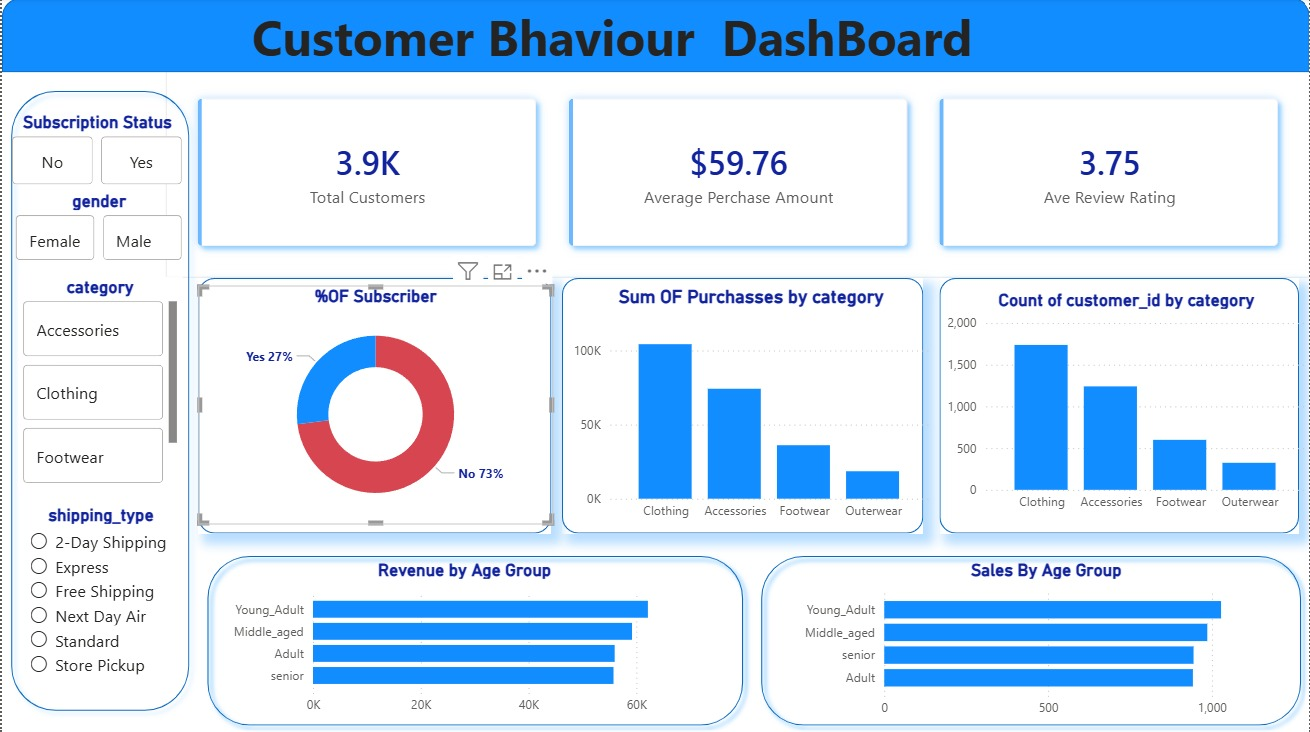

The page's visual inventory and layout, read from the dashboard file:
{"tool":"powerbi","page":{"name":"Page 1","canvas":[1280,720],"ordinal":0},"visuals":[{"type":"cardVisual","fields":{"Data":["public customer.Total Customers","public customer.Average Perchase Amount","public customer.Ave Review  Rating"]},"box":[160,66.7,1120,206.7],"z":0},{"type":"shape","box":[0,0,1280.3,72.7],"z":1000},{"type":"shape","box":[916.7,273.3,351.7,250],"z":2000},{"type":"textbox","box":[0,0,1193.8,82.3],"z":3000},{"type":"shape","box":[191.7,273.3,345,250],"z":4000},{"type":"shape","box":[548.3,273.3,353.3,250],"z":5000},{"type":"donutChart","title":"%OF Subscriber","fields":{"Category":["public customer.subscription_status"],"Y":["CountNonNull(public customer.customer_id)"]},"box":[192.1,281.3,347.2,233.3],"z":6000},{"type":"clusteredColumnChart","fields":{"Y":["public customer.Sum OF Purchasses"],"Category":["public customer.category"]},"box":[554.4,281.3,358.1,238.8],"z":7000},{"type":"clusteredColumnChart","fields":{"Y":["CountNonNull(public customer.customer_id)"],"Category":["public customer.category"]},"box":[919.4,285.4,360.9,226.4],"z":8000},{"type":"shape","box":[0,82.3,192.1,624.4],"z":9000},{"type":"advancedSlicerVisual","fields":{"Values":["public customer.subscription_status"]},"box":[5.5,111.1,177,76.8],"z":10000},{"type":"advancedSlicerVisual","fields":{"Values":["public customer.gender"]},"box":[8.2,188,172.9,74.1],"z":11000},{"type":"advancedSlicerVisual","fields":{"Values":["public customer.category"]},"box":[16.5,273.1,160.5,208.6],"z":12000},{"type":"listSlicer","fields":{"Values":["public customer.shipping_type"]},"box":[22,495.4,149.6,225],"z":13000},{"type":"clusteredBarChart","title":"Revenue by Age Group","fields":{"Category":["public customer.age_group"],"Y":["Sum(public customer.purchase_amount)"]},"box":[216.8,548.9,472,160.5],"z":14000},{"type":"shape","box":[192.1,536.5,542,183.9],"z":15000},{"type":"shape","box":[734.1,536.5,546.1,183.9],"z":16000},{"type":"clusteredBarChart","title":"Sales By Age Group","fields":{"Category":["public customer.age_group"],"Y":["CountNonNull(public customer.customer_id)"]},"box":[775.3,548.9,492.6,163.3],"z":17000}]}

Visuals, with their boxes in screenshot pixels (x1, y1, x2, y2), scaled from the page's 1280x720 canvas onto the 1310x732 screenshot:
cardVisual - public customer.Total Customers x public customer.Average Perchase Amount: x1=164, y1=68, x2=1309, y2=278
shape: x1=0, y1=0, x2=1309, y2=74
shape: x1=938, y1=278, x2=1298, y2=532
textbox: x1=0, y1=0, x2=1222, y2=84
shape: x1=196, y1=278, x2=549, y2=532
shape: x1=561, y1=278, x2=923, y2=532
"%OF Subscriber" donutChart: x1=197, y1=286, x2=552, y2=523
clusteredColumnChart - public customer.Sum OF Purchasses x public customer.category: x1=567, y1=286, x2=934, y2=529
clusteredColumnChart - CountNonNull(public customer.customer_id) x public customer.category: x1=941, y1=290, x2=1309, y2=520
shape: x1=0, y1=84, x2=197, y2=718
advancedSlicerVisual - public customer.subscription_status: x1=6, y1=113, x2=187, y2=191
advancedSlicerVisual - public customer.gender: x1=8, y1=191, x2=185, y2=266
advancedSlicerVisual - public customer.category: x1=17, y1=278, x2=181, y2=490
listSlicer - public customer.shipping_type: x1=23, y1=504, x2=176, y2=731
"Revenue by Age Group" clusteredBarChart: x1=222, y1=558, x2=705, y2=721
shape: x1=197, y1=545, x2=751, y2=731
shape: x1=751, y1=545, x2=1309, y2=731
"Sales By Age Group" clusteredBarChart: x1=793, y1=558, x2=1298, y2=724
